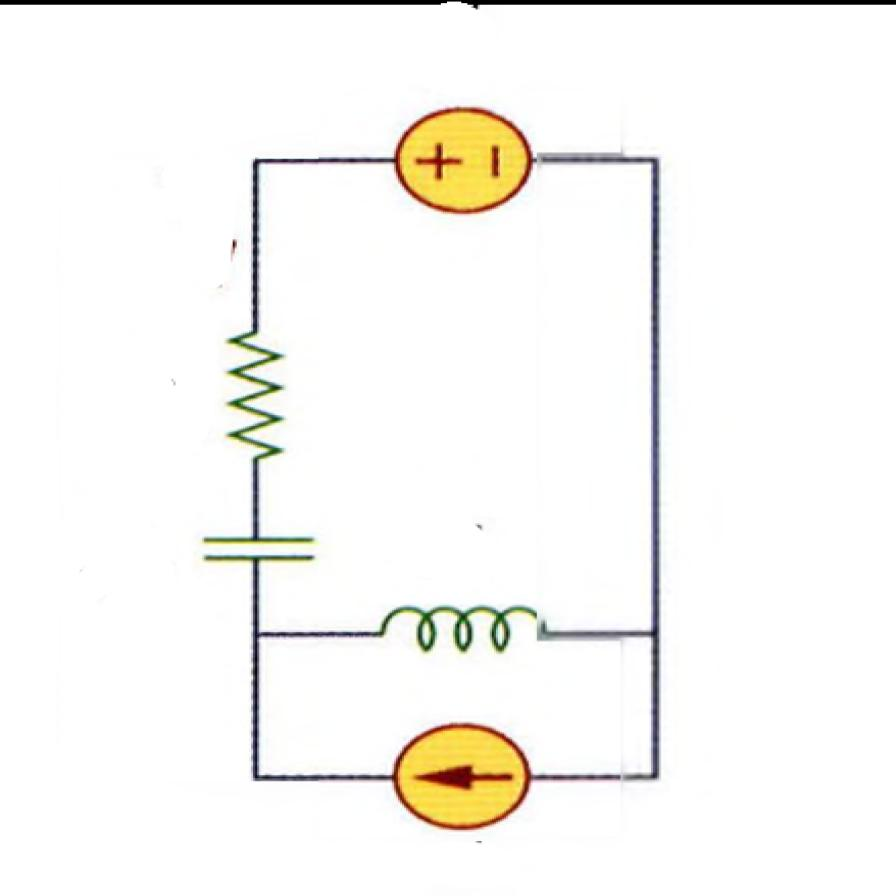C2: (184, 514, 326, 583)
I4: (384, 716, 542, 836)
L1: (367, 596, 560, 658)
R2: (194, 315, 302, 477)
V4: (378, 87, 544, 220)
